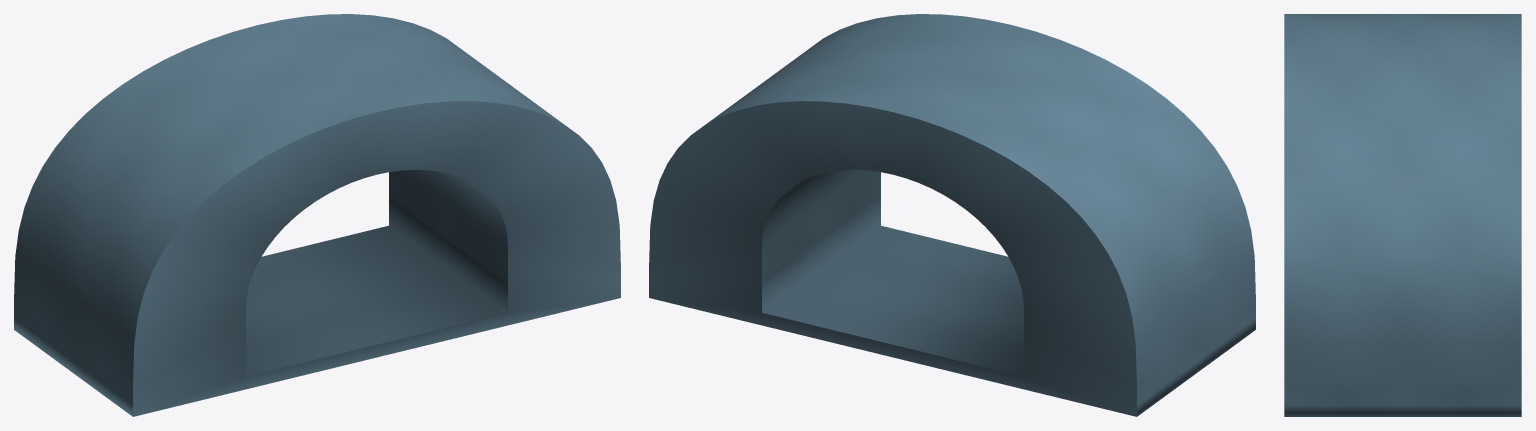
Rendered from straight_12m_terrain_lod1.glb.
3 renders of one model, left to right at view 1: azimuth 30°, elevation 25°; view 2: azimuth 150°, elevation 25°; view 3: azimuth 270°, elevation 25°, orthographic.
Visible parts, largest first — view 1: TerrainRoof.005; view 2: TerrainRoof.005; view 3: TerrainRoof.005.
Boxes of the visible parts, x1,y1,x2,y2 form: TerrainRoof.005: (14, 14, 620, 416); TerrainRoof.005: (649, 14, 1255, 416); TerrainRoof.005: (1284, 14, 1521, 416).
Size of the model in its own units: 28.4 by 13.65 by 12.
